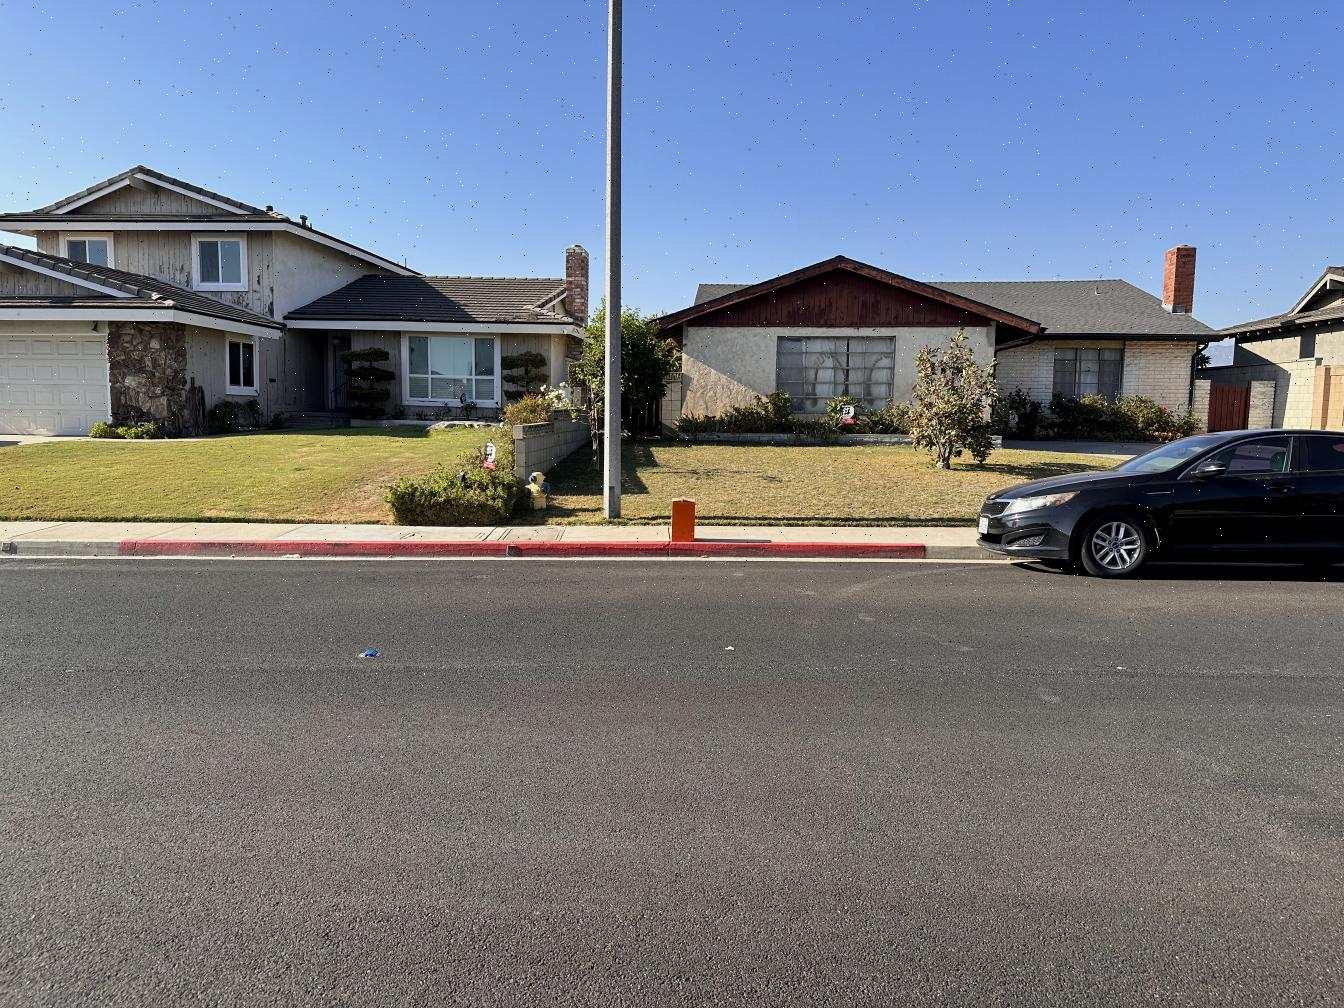curbs-laRr: (1, 541, 122, 562), (925, 544, 971, 562)
orange box: (671, 499, 695, 542)
